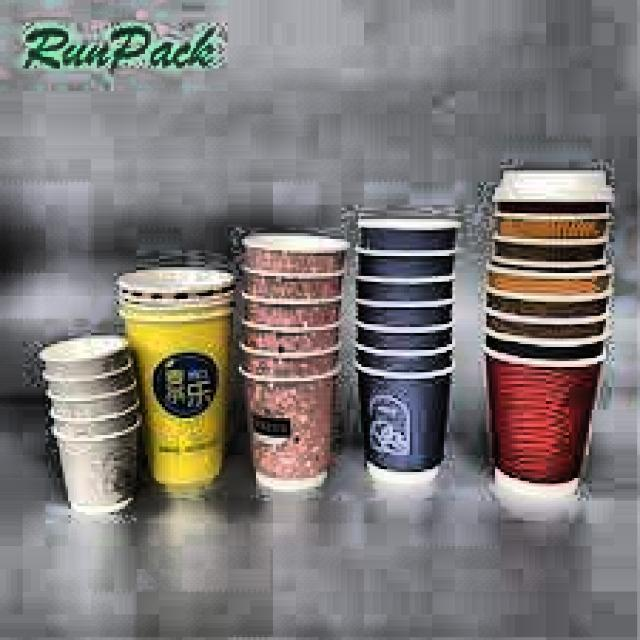Cup: (479, 190, 615, 504), (119, 258, 244, 488), (355, 214, 456, 490), (239, 229, 345, 490), (38, 332, 140, 523)
